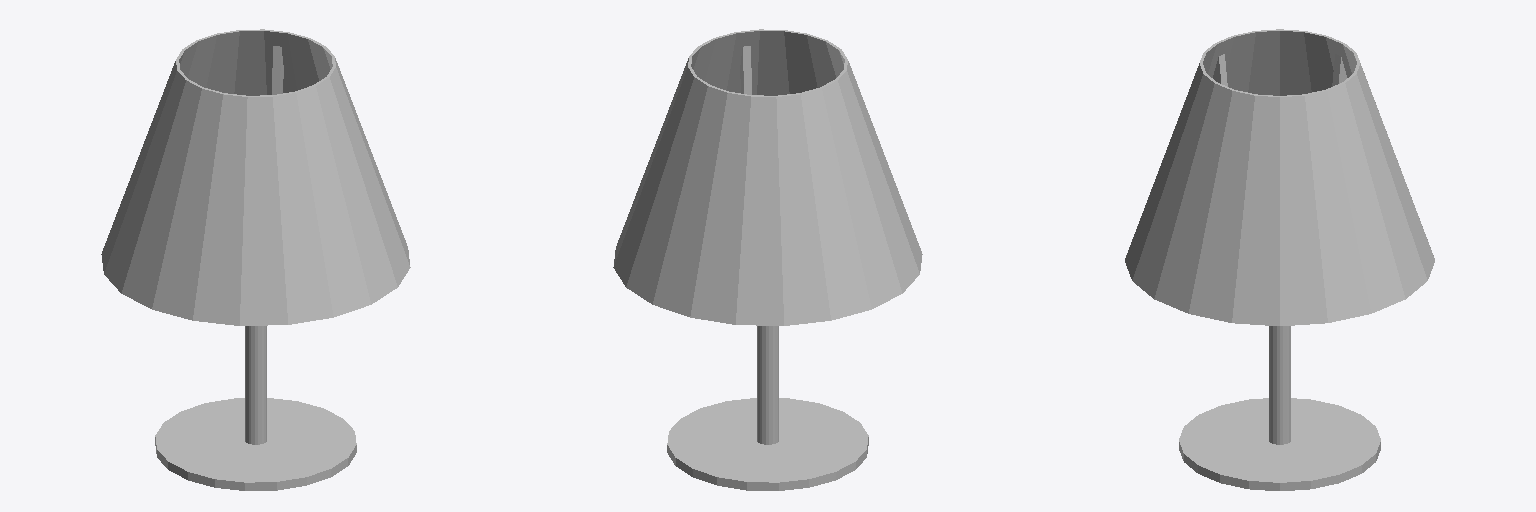
The model's file is Low_Poly_Desk_Lamp.obj.
The picture shows the model from 3 angles: view 1: azimuth 30°, elevation 25°; view 2: azimuth 150°, elevation 25°; view 3: azimuth 270°, elevation 25°; orthographic projection.
Visible parts, largest first — view 1: Low_Poly_Desk_Lamp Lamp_Shade, Low_Poly_Desk_Lamp Lamp_Base; view 2: Low_Poly_Desk_Lamp Lamp_Shade, Low_Poly_Desk_Lamp Lamp_Base; view 3: Low_Poly_Desk_Lamp Lamp_Shade, Low_Poly_Desk_Lamp Lamp_Base.
Part boxes in pixels (left/top/right/bottom): Low_Poly_Desk_Lamp Lamp_Shade: left=101, top=29, right=410, bottom=325; Low_Poly_Desk_Lamp Lamp_Base: left=155, top=46, right=356, bottom=490; Low_Poly_Desk_Lamp Lamp_Shade: left=613, top=29, right=922, bottom=325; Low_Poly_Desk_Lamp Lamp_Base: left=667, top=46, right=868, bottom=490; Low_Poly_Desk_Lamp Lamp_Shade: left=1125, top=29, right=1434, bottom=325; Low_Poly_Desk_Lamp Lamp_Base: left=1179, top=54, right=1380, bottom=490.
Size of the model in its own units: 4.24 by 5.8 by 4.24.